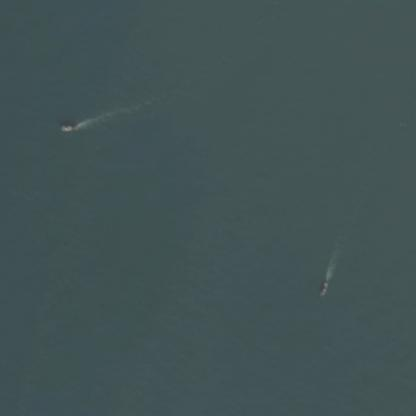ship: (53, 114, 81, 138), (315, 274, 334, 300)
